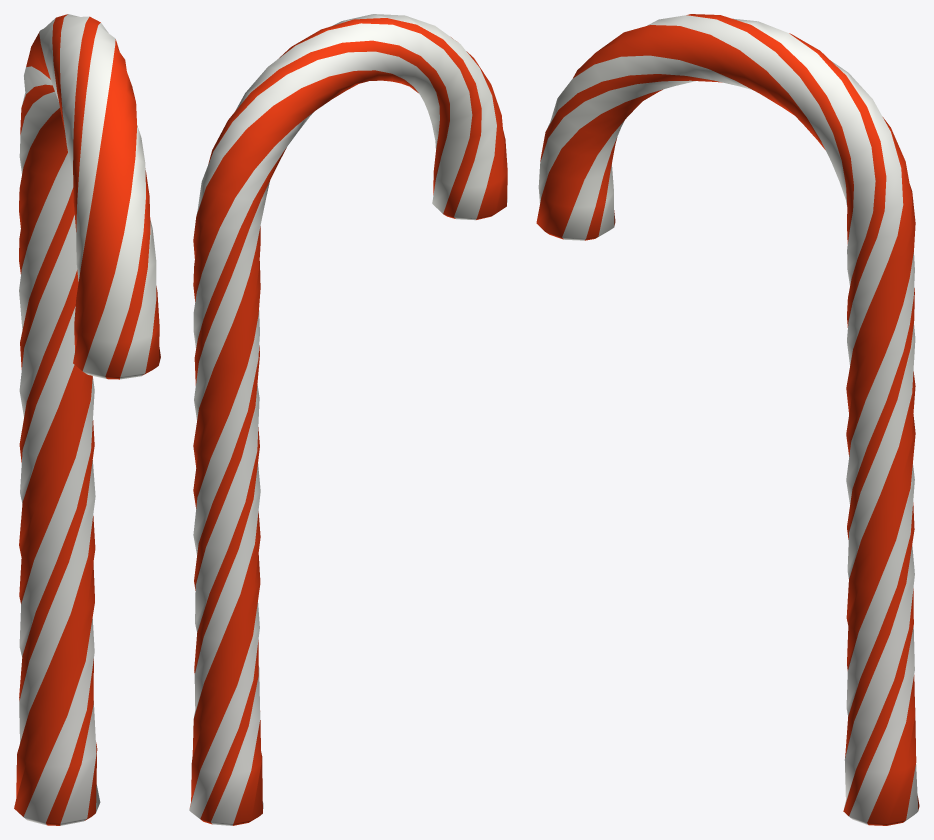
Rendered from ColdArms_Candy_01.gltf.
3 renders of one model, left to right at view 1: azimuth 30°, elevation 25°; view 2: azimuth 150°, elevation 25°; view 3: azimuth 270°, elevation 25°, orthographic. The views are drawn at different scales.
Visible parts, largest first — view 1: ColdArms_Candy_01; view 2: ColdArms_Candy_01; view 3: ColdArms_Candy_01.
Boxes of the visible parts, x1,y1,x2,y2 form: ColdArms_Candy_01: (14, 14, 160, 825); ColdArms_Candy_01: (189, 14, 507, 825); ColdArms_Candy_01: (536, 14, 919, 825).
Size of the model in its own units: 0.2059 by 0.9072 by 0.41.
1 material, 1 textured.
